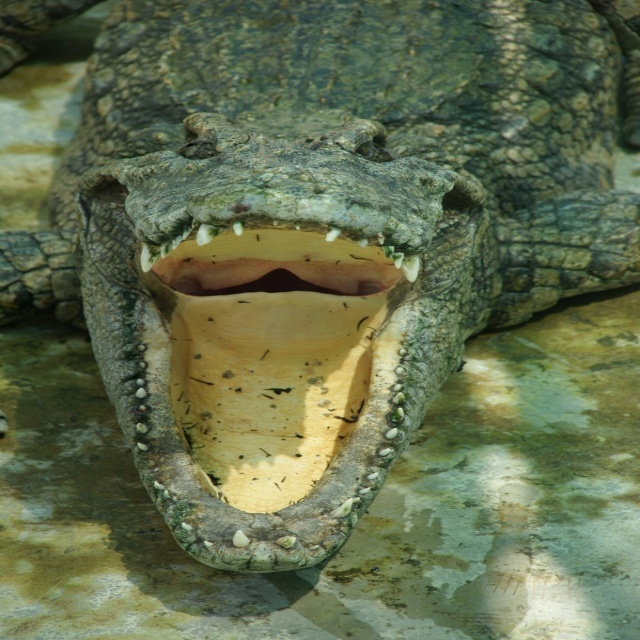Crocodile: (0, 0, 640, 573)
